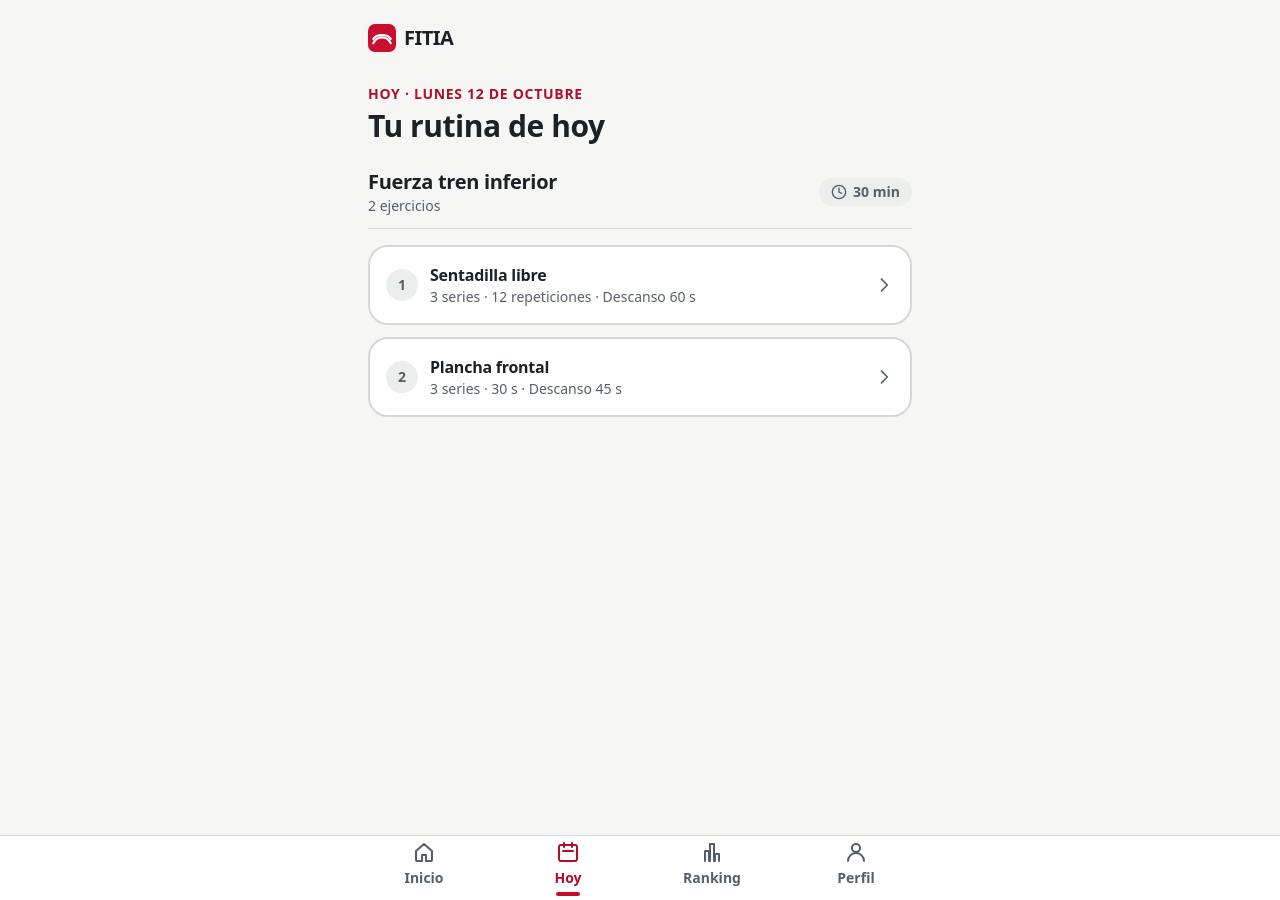
it: HU 10 — Rutina de hoy (/hoy) › AC-10-1: día de entrenamiento muestra ejercicios en orden con prescripción y guía accesible
The width and height of the screenshot is (1280, 900).
Expected: the heading "Tu rutina de hoy" is shown, [368,105,605,146]
Expected: the heading "Fuerza tren inferior" is shown, [368,168,557,196]
Click the button "Sentadilla libre" at (640, 285), box [368,245,912,325]
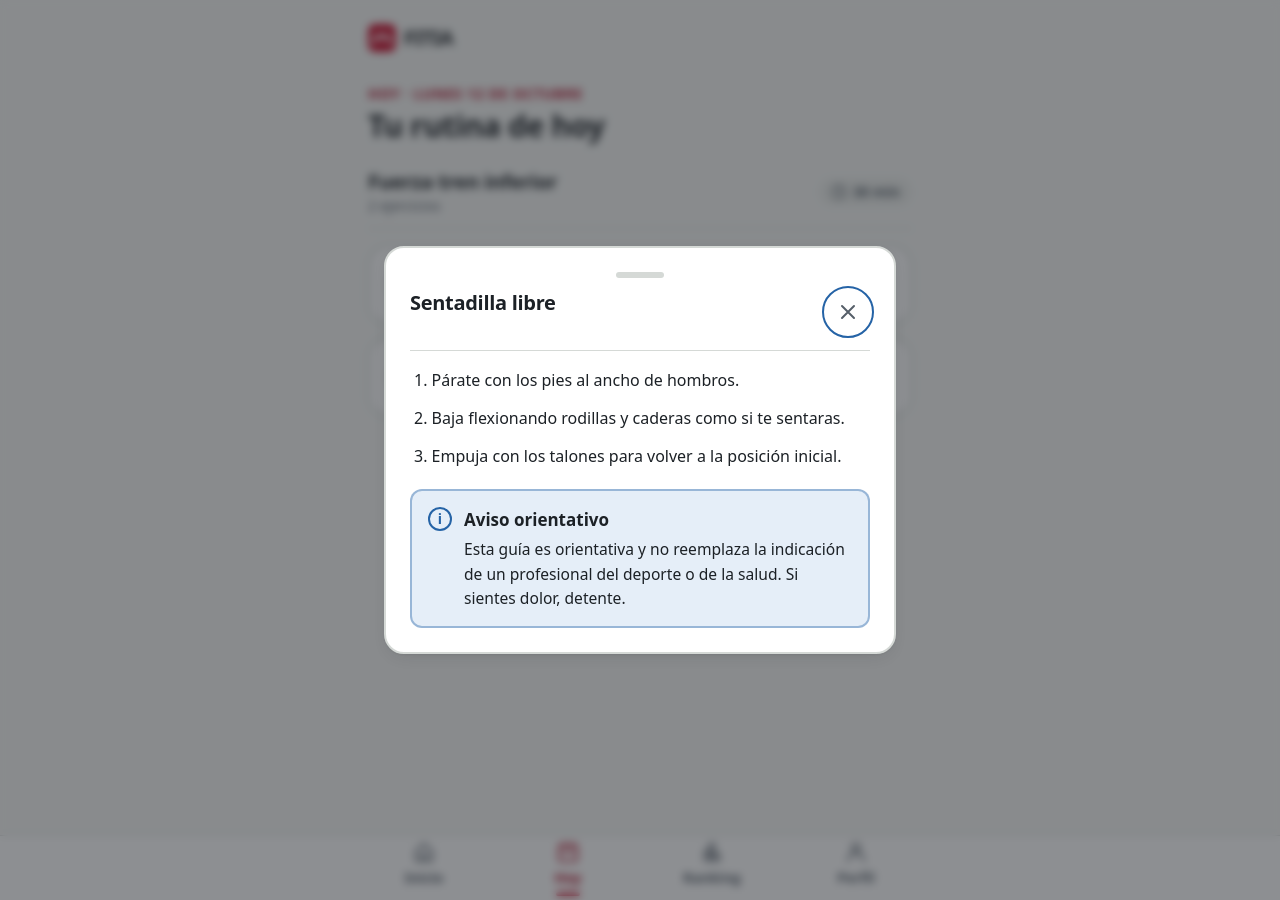
Expected: the dialog is shown, [384,246,896,654]
Expected: the text "Párate con los pies al ancho de hombros." is shown, [432,369,739,391]
Expected: the text "Esta guía es orientativa y no reemplaza la indicación de un profesional del deporte o de la salud. Si sientes dolor, det" is shown, [464,538,845,609]
